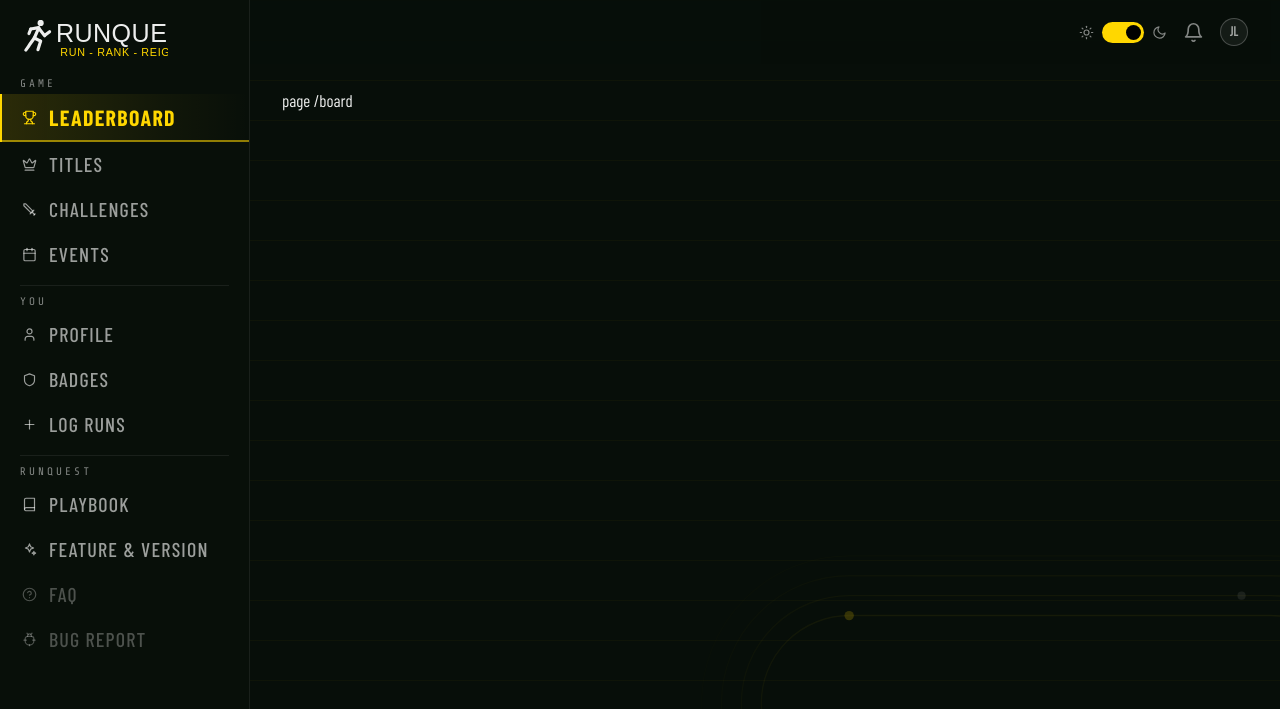
Scenario: AvatarMenu › desktop: Playbook och Feature & Version ligger i sidnavigeringen, inte i menyn
This screenshot has width=1280, height=709.
Step 1. Click the button with aria-label "Account menu" → (1234, 32), box [1220,18,1248,46]
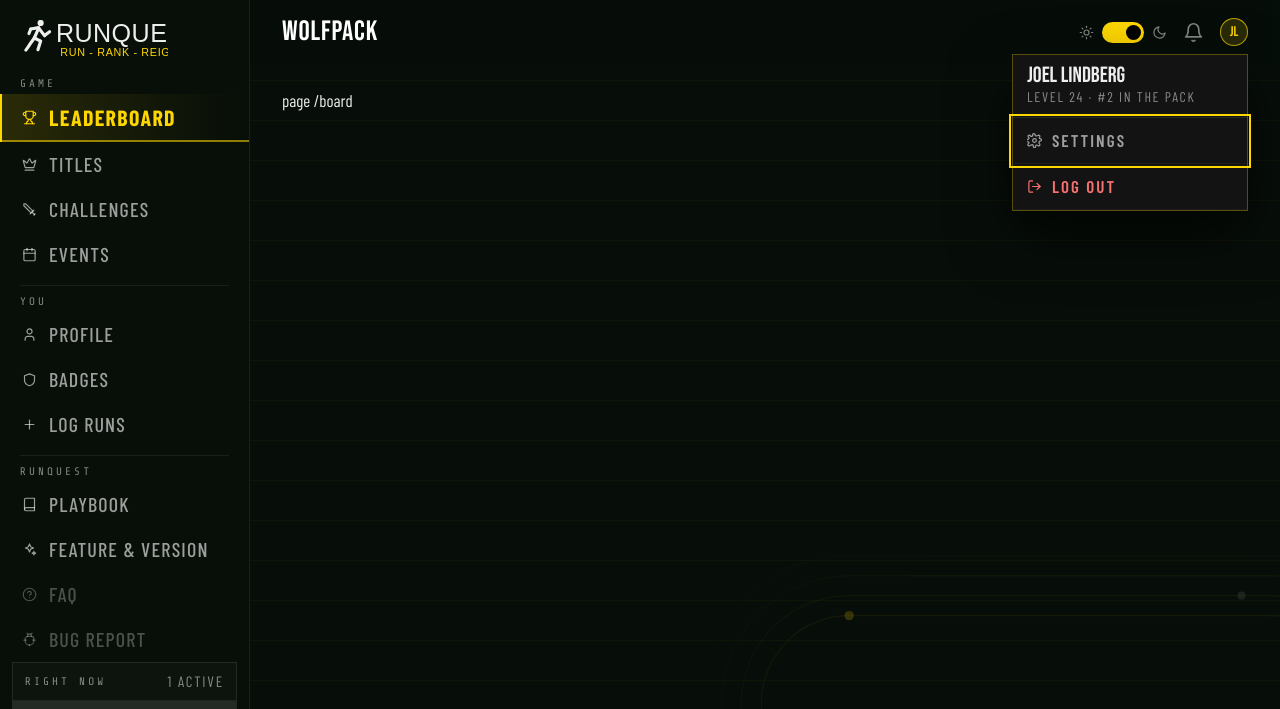
Expected: the button "Settings" is shown, [1013,118,1247,164]
